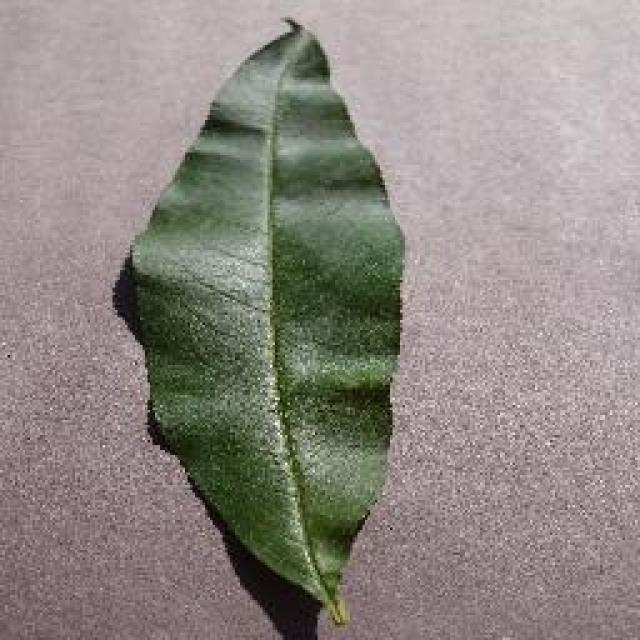Pea_healthy: (121, 65, 406, 535)
